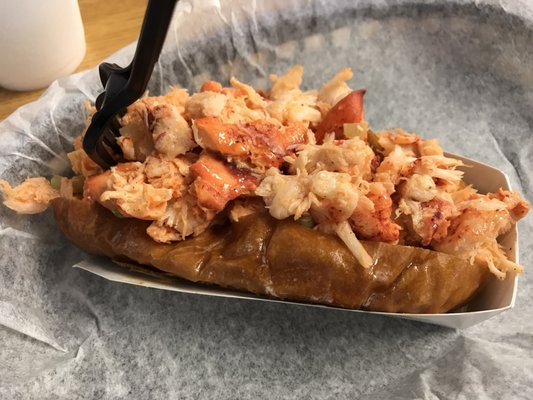pizza: (0, 0, 87, 93)
sandwich: (83, 0, 179, 168)
